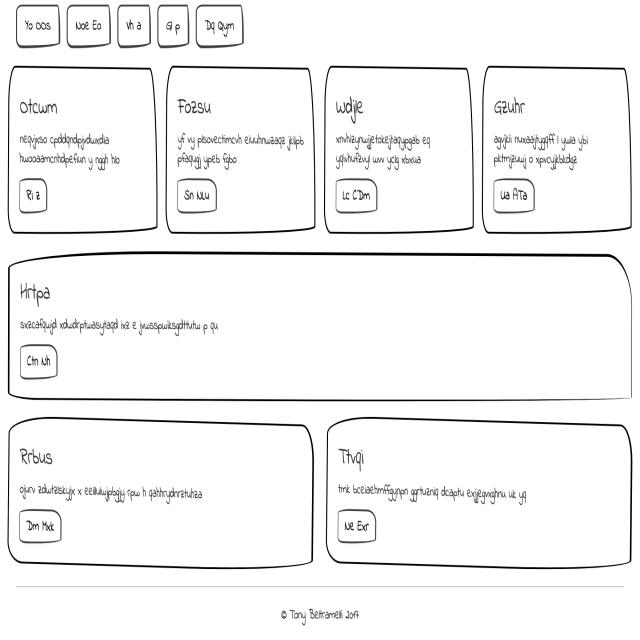Button: (174, 174, 218, 216), (334, 176, 378, 216), (18, 505, 60, 545), (337, 509, 378, 544), (492, 180, 536, 212), (19, 343, 58, 378), (17, 176, 50, 213)
Card: (5, 253, 635, 402), (6, 412, 315, 570), (324, 412, 633, 570), (166, 60, 318, 234), (480, 66, 633, 232), (324, 65, 476, 228), (9, 66, 156, 228)
Footer: (0, 585, 640, 640)
Heading 6: (177, 91, 220, 124), (16, 275, 52, 312), (18, 442, 57, 471), (337, 438, 366, 473), (15, 97, 58, 119), (492, 93, 526, 119), (334, 97, 364, 123)
Navigation Bar: (15, 2, 245, 52)
Paragraph: (338, 478, 537, 508), (175, 130, 301, 171), (14, 311, 221, 334), (492, 128, 594, 174), (18, 132, 120, 173), (20, 481, 212, 502), (334, 132, 434, 172)
